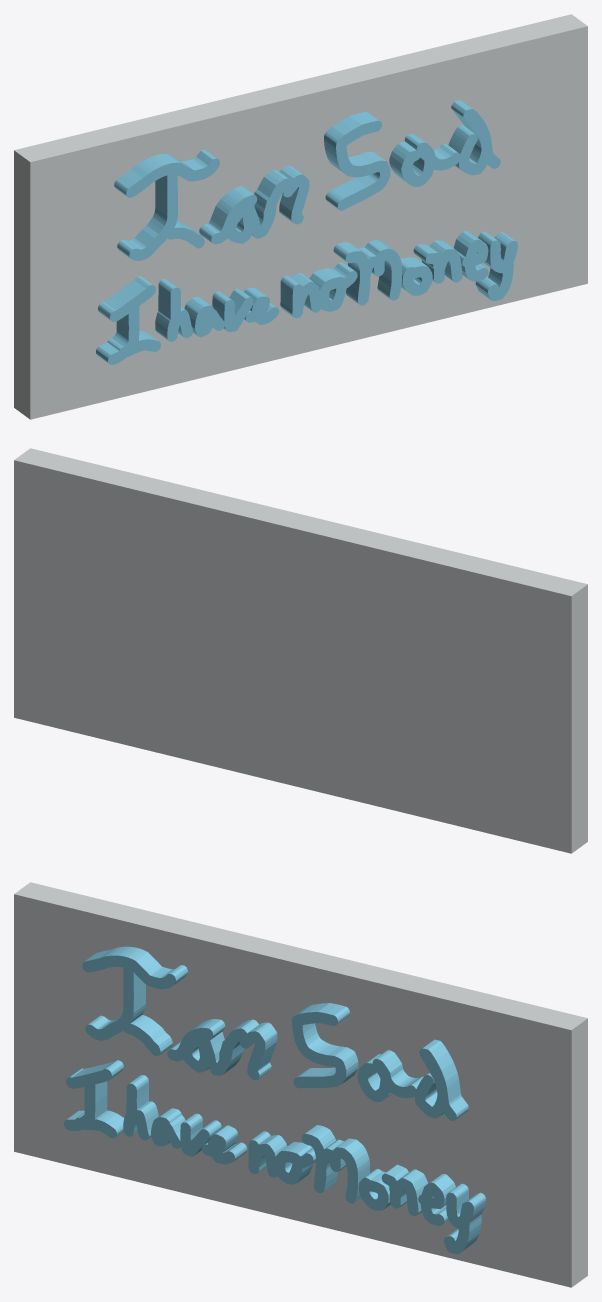
Rendered from tinker.obj.
The picture shows the model from 3 angles, top to bottom: view 1: azimuth 30°, elevation 25°; view 2: azimuth 150°, elevation 25°; view 3: azimuth 330°, elevation 25°; orthographic projection.
Parts seen in each view (by area): view 1: group_0_14541540, group_0_8768998; view 2: group_0_14541540; view 3: group_0_14541540, group_0_8768998.
Part boxes in pixels (bbox=[...]): group_0_14541540: bbox=[14, 14, 587, 419]; group_0_8768998: bbox=[96, 100, 517, 364]; group_0_14541540: bbox=[14, 448, 587, 853]; group_0_14541540: bbox=[14, 882, 587, 1287]; group_0_8768998: bbox=[64, 946, 485, 1254].
Bounding box in the file's own units: 106 × 47 × 10.
